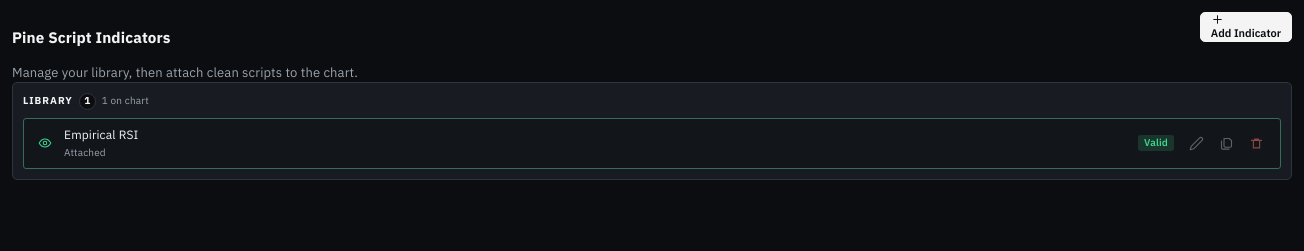
Test: Empirical Challenger Milestone 5 Iteration 2 Adversarial Suite › 4. PineIndicatorPanel Button Migrations › triggers duplicate action and adds duplicate to store
This screenshot has width=1304, height=251.
Click the button named "duplicate indicator" at (1226, 143), box x1=1212 y1=129 x2=1240 y2=157
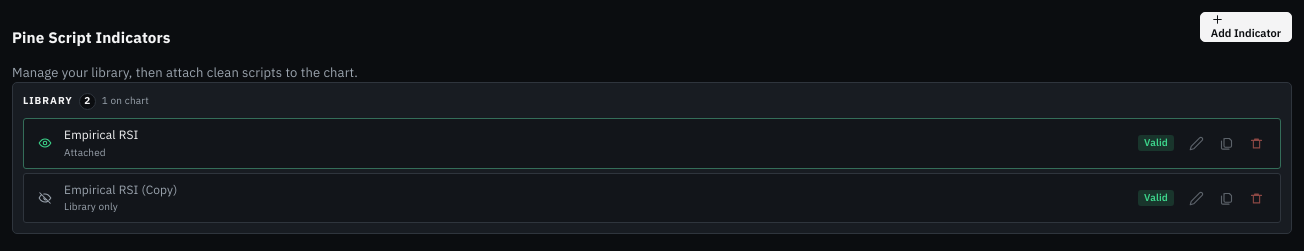
Expected: the text "Empirical RSI (Copy)" is shown, x1=64 y1=182 x2=177 y2=197
